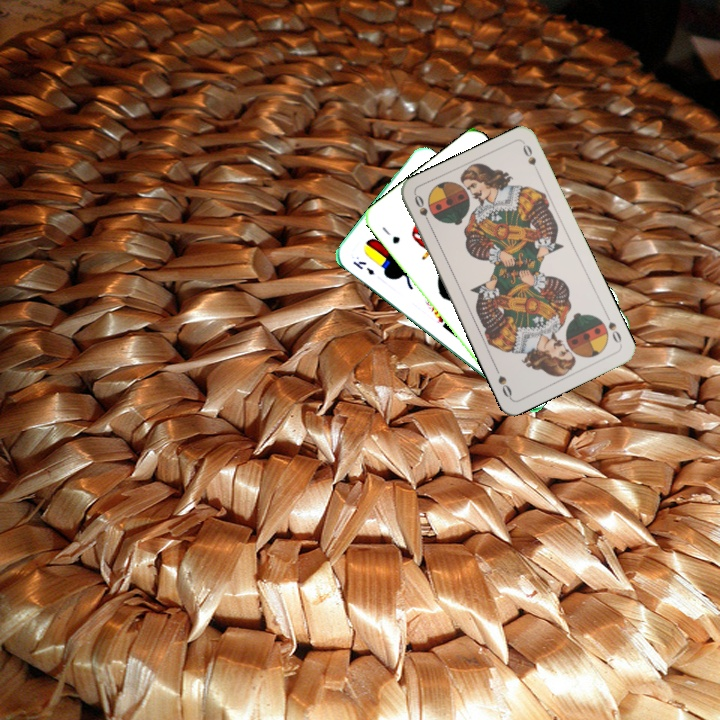EK: (349, 257, 377, 278)
GU: (378, 223, 402, 246)
SO: (410, 191, 434, 229), (601, 310, 625, 348)
